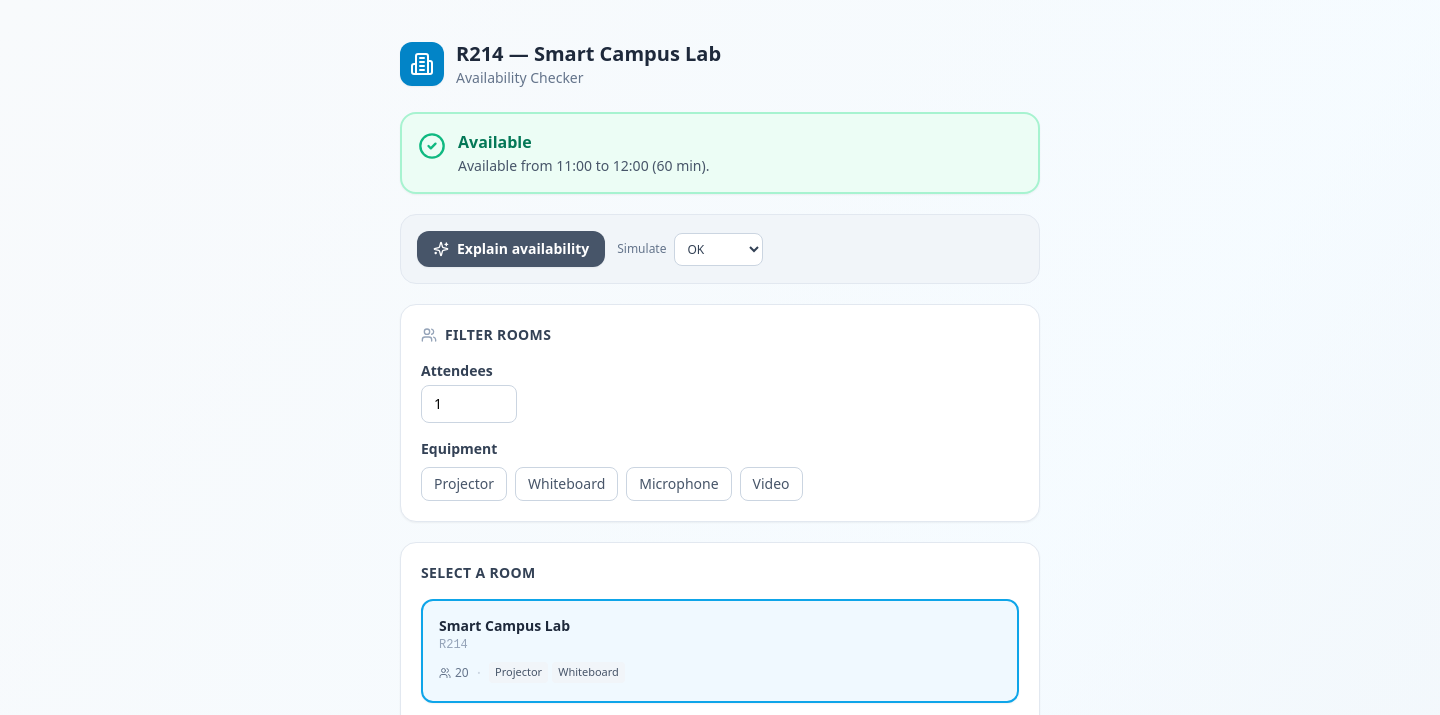
Test: App UI › UI2 F4: attendees 100 shows empty state
This screenshot has width=1440, height=715.
Replace the text in the number field labelled "Attendees" with "100" at coordinates (469, 404), box [421, 385, 517, 423]
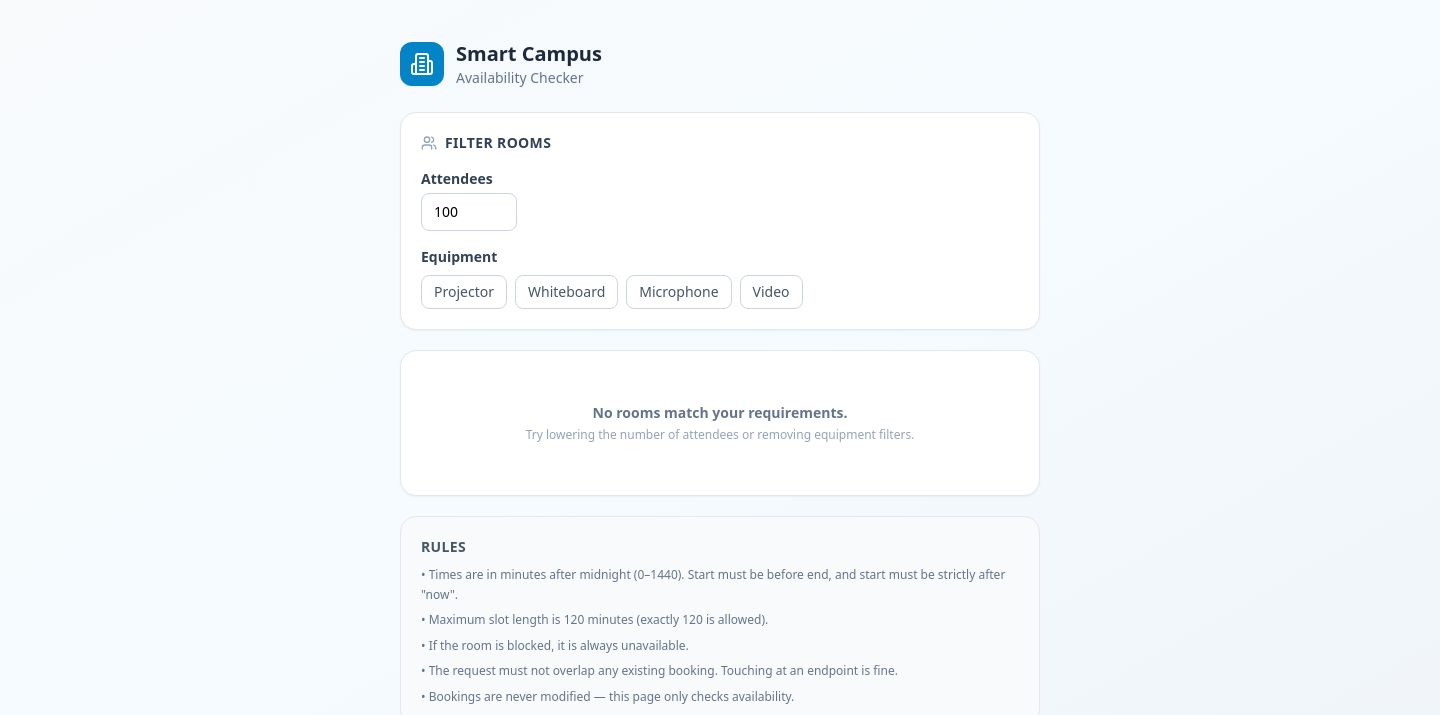
Now the text "No rooms match your requirements." is shown, box [593, 403, 848, 423]
